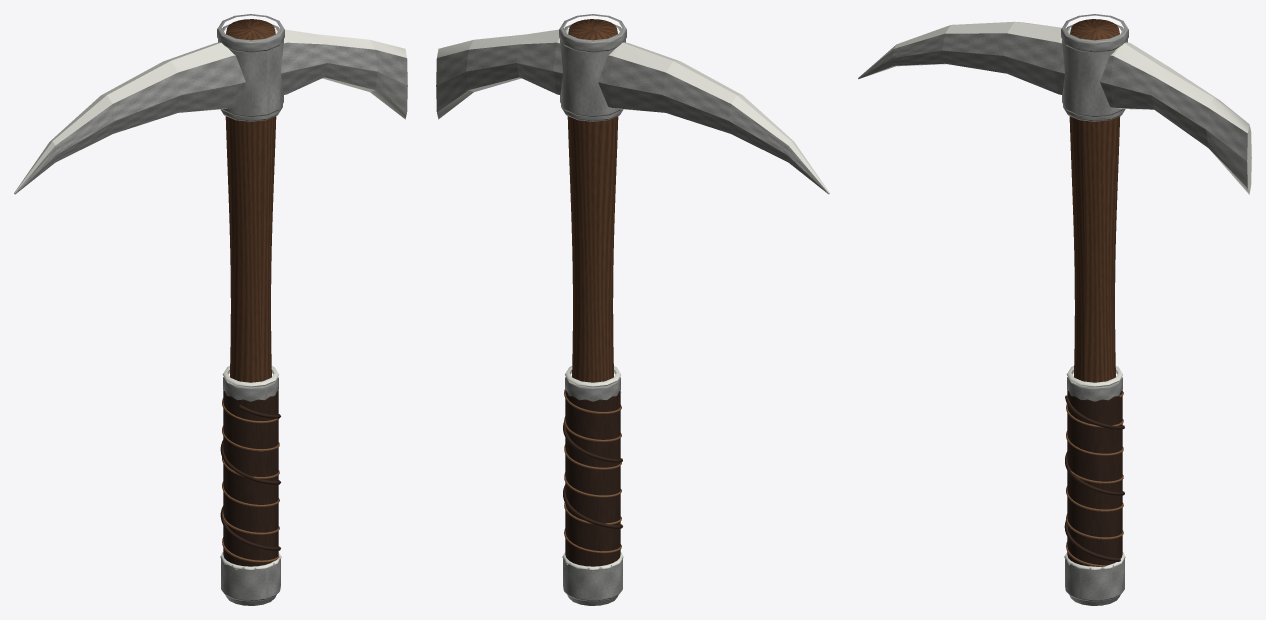
The model's file is emberite_pickaxe.glb.
The picture shows the model from 3 angles, left to right: view 1: azimuth 30°, elevation 25°; view 2: azimuth 150°, elevation 25°; view 3: azimuth 330°, elevation 25°; orthographic projection.
Visible parts, largest first — view 1: emberite_pickaxe-head-material, longitudinal-haft-grain, creased-leather-wrap, socket-and-ferrule-metal, honed-head-bevels, leather-overlap-edges; view 2: emberite_pickaxe-head-material, longitudinal-haft-grain, creased-leather-wrap, socket-and-ferrule-metal, honed-head-bevels, leather-overlap-edges; view 3: emberite_pickaxe-head-material, longitudinal-haft-grain, creased-leather-wrap, socket-and-ferrule-metal, honed-head-bevels, leather-overlap-edges.
Part boxes in pixels (box(x1,y1,x2,y2)): emberite_pickaxe-head-material: box(15, 42, 407, 193); longitudinal-haft-grain: box(225, 19, 276, 382); creased-leather-wrap: box(220, 390, 280, 566); socket-and-ferrule-metal: box(217, 14, 284, 605); honed-head-bevels: box(14, 29, 406, 571); leather-overlap-edges: box(222, 398, 279, 562); emberite_pickaxe-head-material: box(436, 42, 828, 193); longitudinal-haft-grain: box(567, 19, 618, 382); creased-leather-wrap: box(563, 390, 622, 566); socket-and-ferrule-metal: box(559, 14, 626, 605); honed-head-bevels: box(437, 29, 829, 571); leather-overlap-edges: box(564, 389, 621, 553); emberite_pickaxe-head-material: box(858, 33, 1247, 187); longitudinal-haft-grain: box(1069, 19, 1120, 382); creased-leather-wrap: box(1064, 390, 1124, 566); socket-and-ferrule-metal: box(1061, 14, 1128, 605); honed-head-bevels: box(858, 21, 1251, 571); leather-overlap-edges: box(1066, 391, 1123, 566).
Size of the model in its own units: 0.67 by 0.93 by 0.101.
6 materials, 4 textured.
